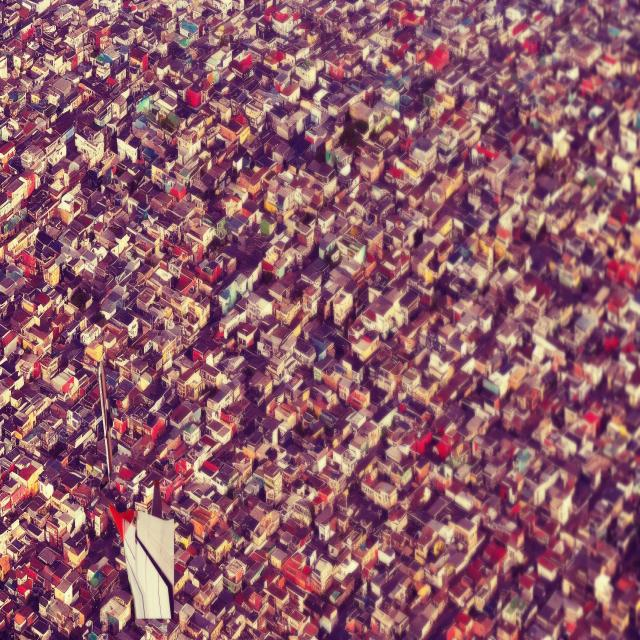airplane: (99, 362, 173, 619)
